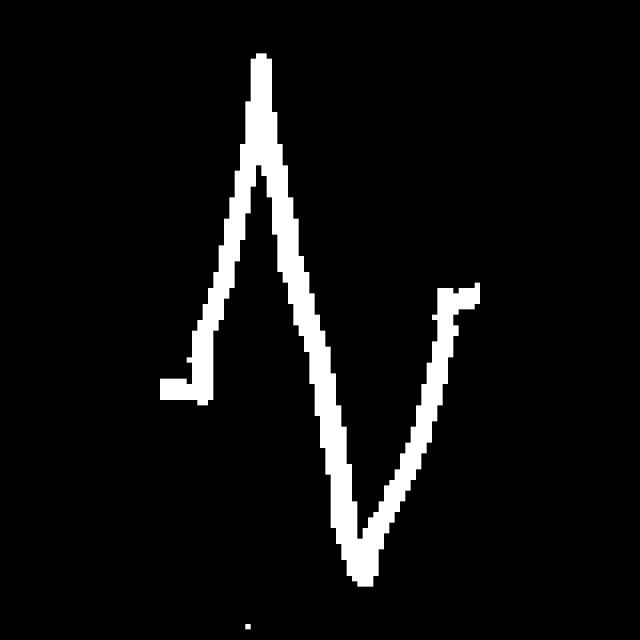resistor: (184, 26, 467, 599)
